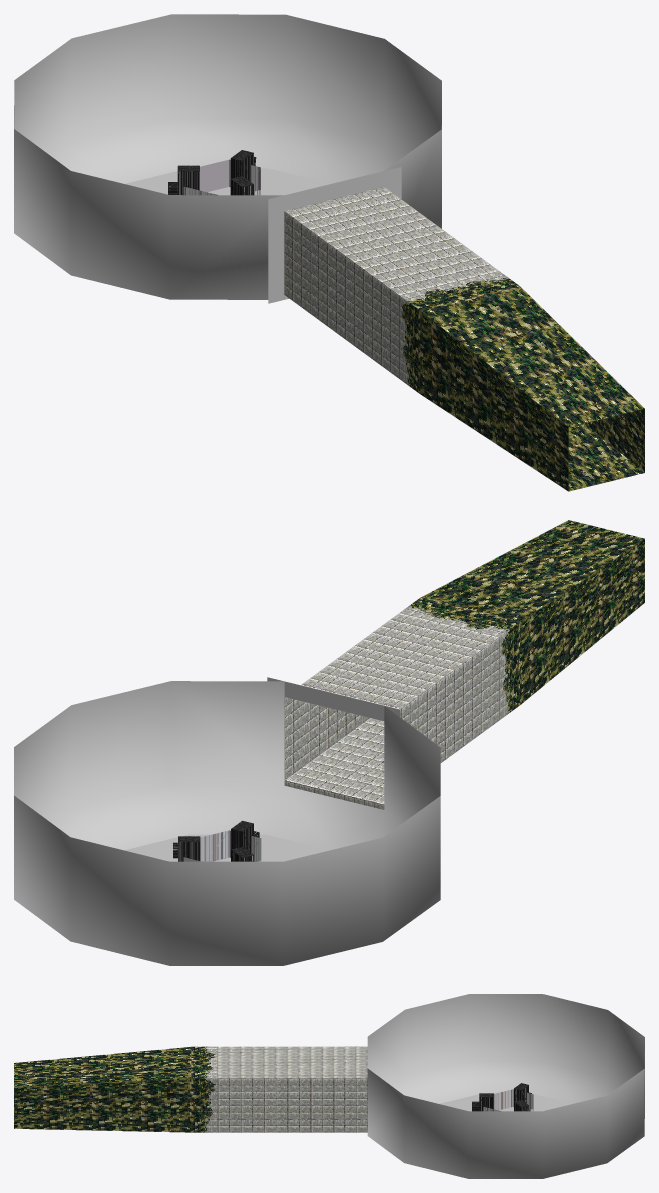
Rendered from Unicorn Fountain Collision.obj.
The picture shows the model from 3 angles, top to bottom: view 1: azimuth 30°, elevation 25°; view 2: azimuth 150°, elevation 25°; view 3: azimuth 270°, elevation 25°; orthographic projection. The views are drawn at different scales.
Visible parts, largest first — view 1: #Stone_me_030026B8_opa.002, Dirt#Exit0#Environment1#Camera1_me_03002318_opa.001, #Stone#Environment1#Camera1_me_030026B8_opa.000, #ShallowWater_me_03001380_opa.000, #Stone#IgnoreProjectiles_fountain.002; view 2: #Stone_me_030026B8_opa.002, Dirt#Exit0#Environment1#Camera1_me_03002318_opa.001, #Stone#Environment1#Camera1_me_030026B8_opa.000, #ShallowWater_me_03001380_opa.000, #Stone#IgnoreProjectiles_fountain.002; view 3: #Stone_me_030026B8_opa.002, Dirt#Exit0#Environment1#Camera1_me_03002318_opa.001, #Stone#Environment1#Camera1_me_030026B8_opa.000, #ShallowWater_me_03001380_opa.000, #Stone#IgnoreProjectiles_fountain.002.
Boxes of the visible parts, x1,y1,x2,y2 form: #Stone_me_030026B8_opa.002: (14,14,441,319); Dirt#Exit0#Environment1#Camera1_me_03002318_opa.001: (399,271,644,491); #Stone#Environment1#Camera1_me_030026B8_opa.000: (319,212,498,378); #ShallowWater_me_03001380_opa.000: (125,168,330,195); #Stone#IgnoreProjectiles_fountain.002: (183,159,260,195); #Stone_me_030026B8_opa.002: (14,672,440,965); Dirt#Exit0#Environment1#Camera1_me_03002318_opa.001: (400,520,644,720); #Stone#Environment1#Camera1_me_030026B8_opa.000: (319,613,499,770); #ShallowWater_me_03001380_opa.000: (124,834,329,861); #Stone#IgnoreProjectiles_fountain.002: (183,830,261,861); #Stone_me_030026B8_opa.002: (322,994,644,1178); Dirt#Exit0#Environment1#Camera1_me_03002318_opa.001: (14,1046,217,1132); #Stone#Environment1#Camera1_me_030026B8_opa.000: (218,1046,322,1132); #ShallowWater_me_03001380_opa.000: (439,1094,572,1111); #Stone#IgnoreProjectiles_fountain.002: (483,1089,533,1111).
Bounding box in the file's own units: 742 × 240 × 1688.
